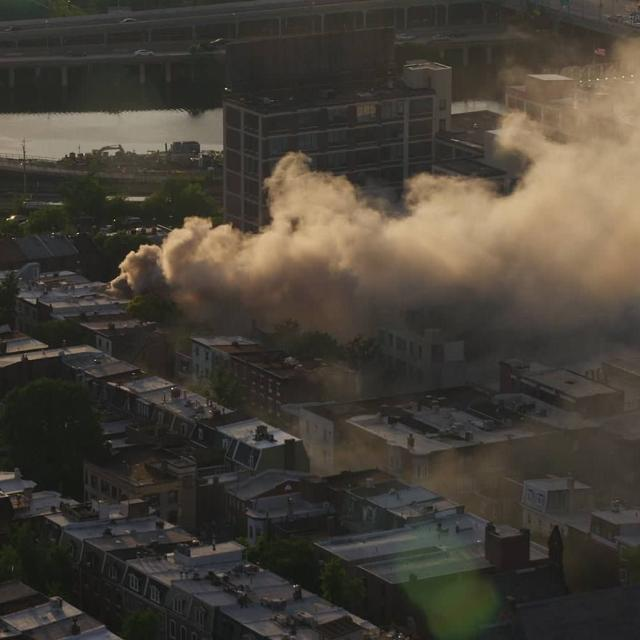Smoke: (112, 35, 640, 356)
